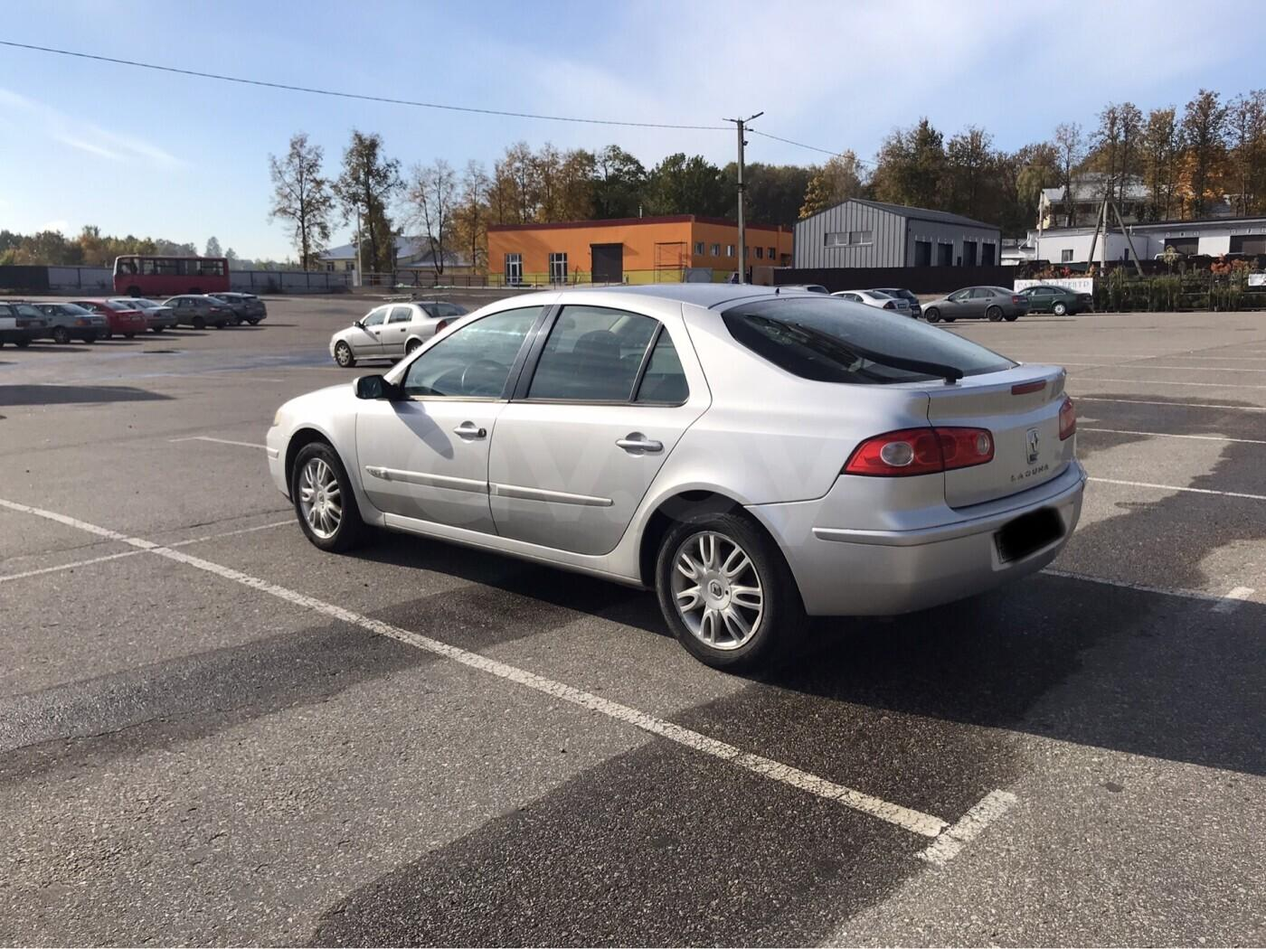Laguna_2005-2007: (261, 276, 1085, 655)
